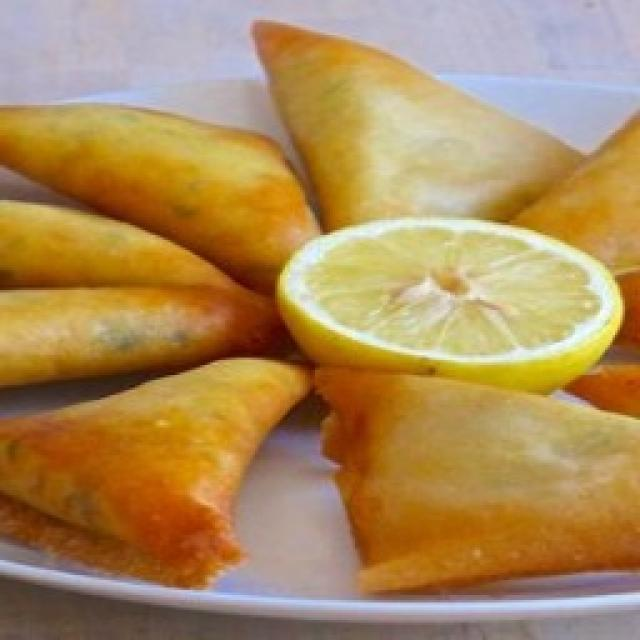Brik: (0, 20, 640, 595)
